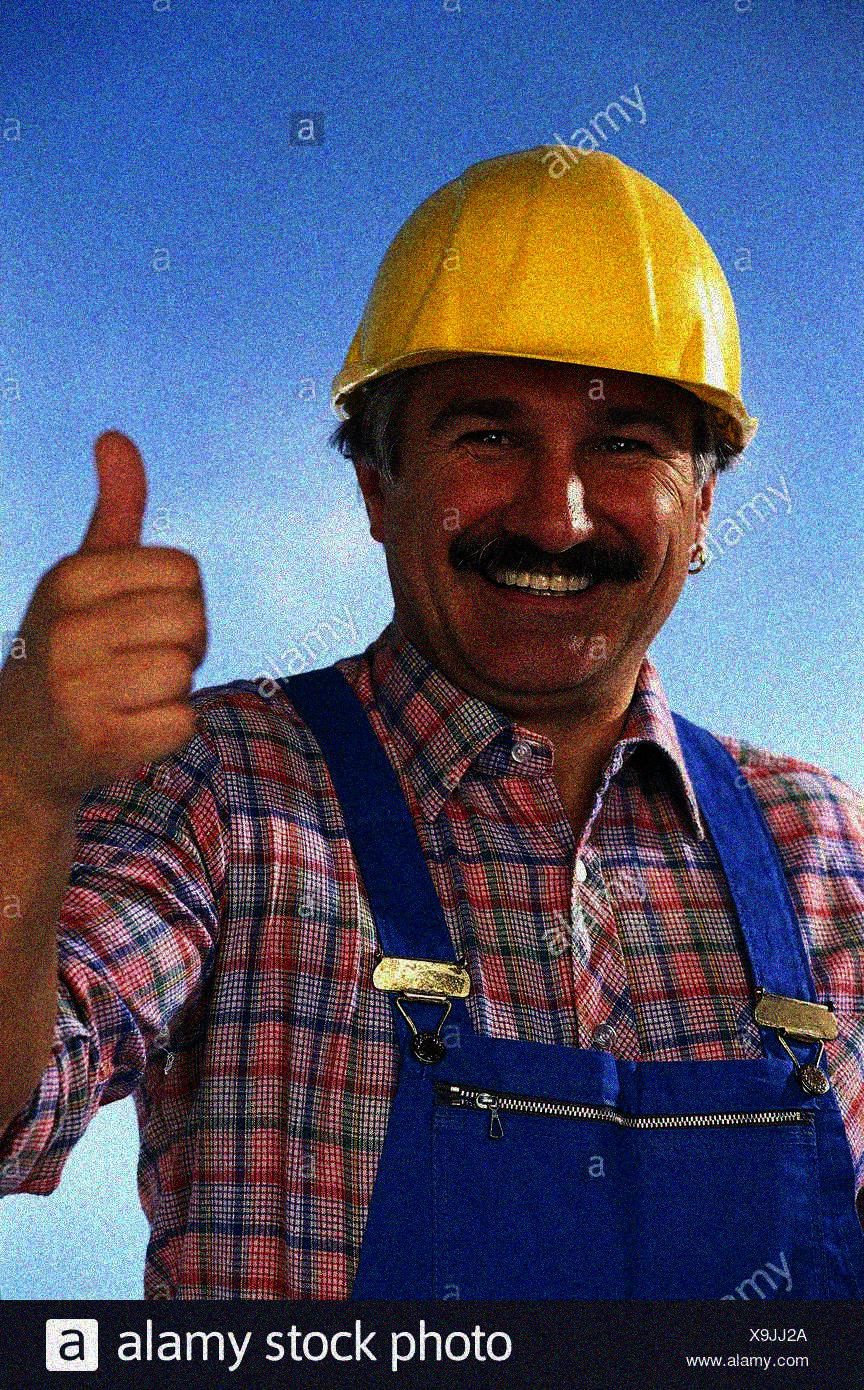helmet: (328, 132, 760, 701)
